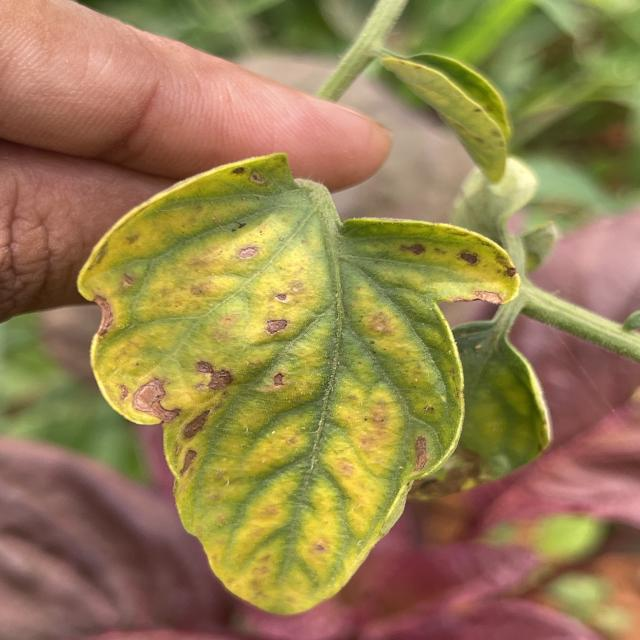tomato_early blight: (80, 157, 463, 614), (353, 316, 555, 506)
